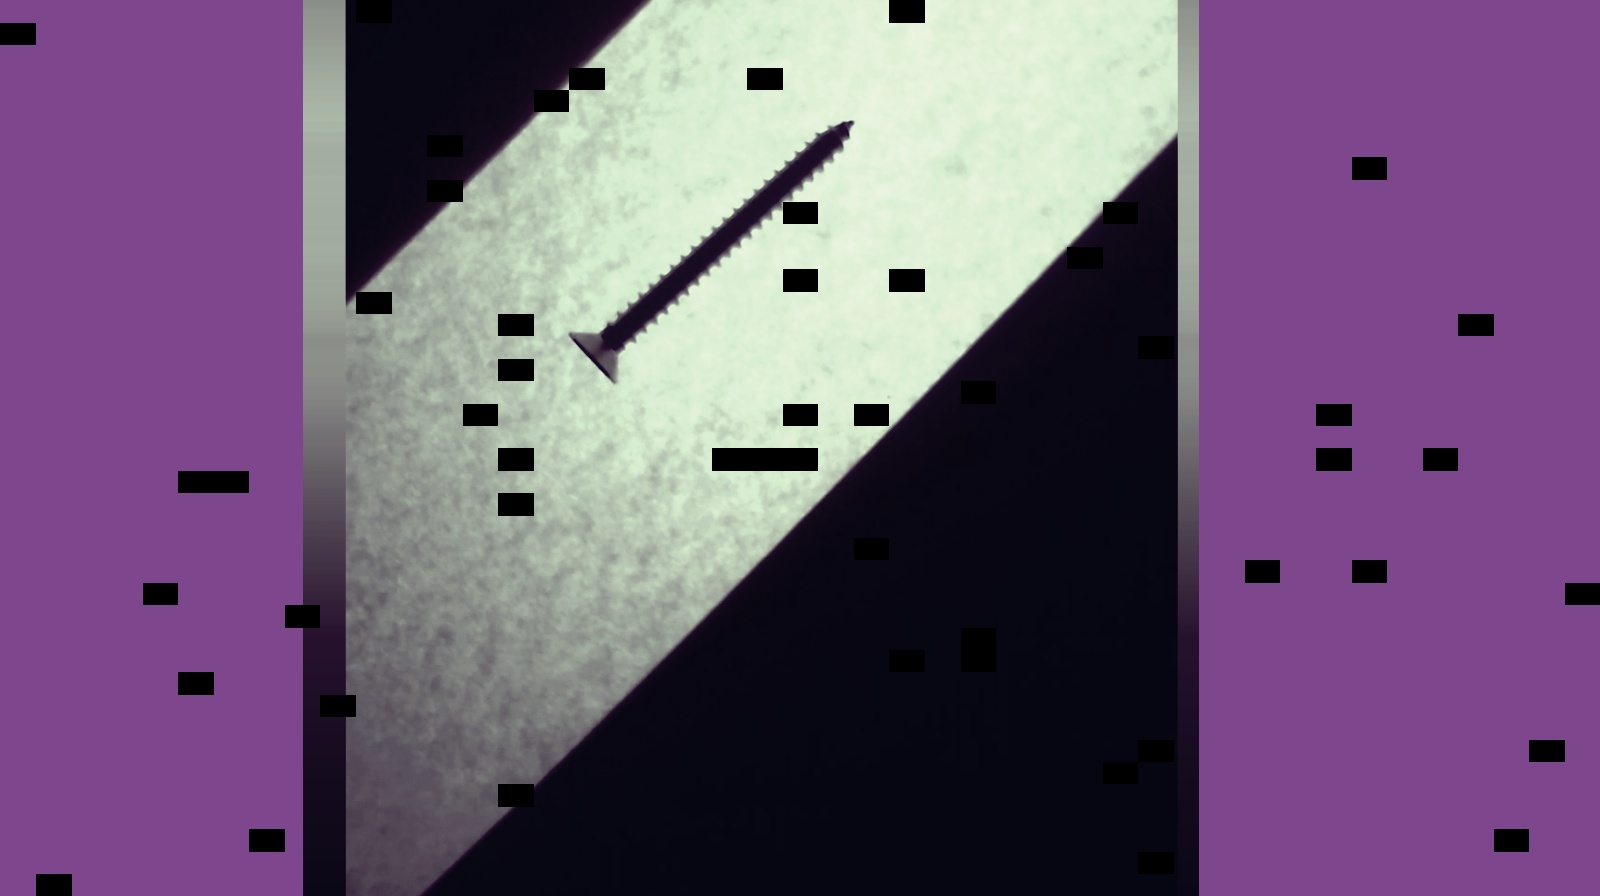S002: (552, 110, 868, 387)
